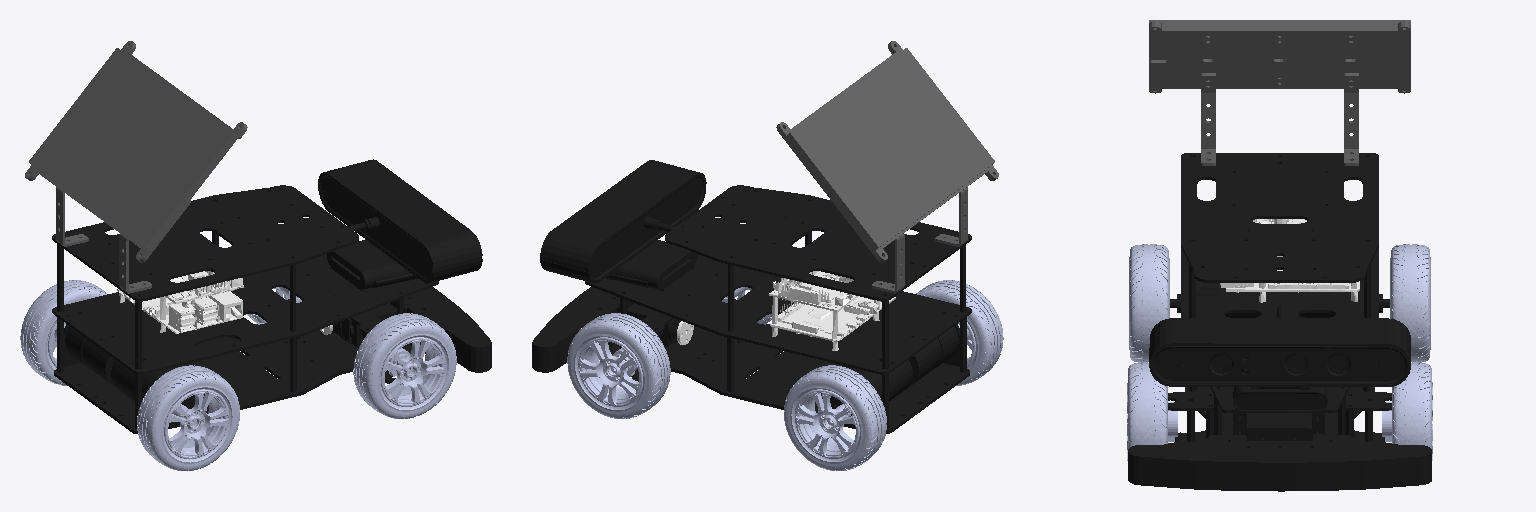
URDF robot description (yeahbot_c30_pi):
<?xml version="1.0" encoding="utf-8"?>
<!-- This URDF was automatically created by SolidWorks to URDF Exporter! Originally created by Stephen Brawner (brawner@gmail.com) 
     Commit Version: 1.6.0-4-g7f85cfe  Build Version: 1.6.7995.38578
     For more information, please see http://wiki.ros.org/sw_urdf_exporter -->
<robot
  name="yeahbot_c30_pi">
  <link
    name="base_link">
    <inertial>
      <origin
        xyz="-0.0404404260631577 -0.00115847242027992 0.0543903129847181"
        rpy="0 0 0" />
      <mass
        value="1.49145898706455" />
      <inertia
        ixx="0.00123615966455794"
        ixy="8.99394548740223E-07"
        ixz="8.97179701403893E-06"
        iyy="0.00110762135686547"
        iyz="-5.85581625855114E-09"
        izz="0.00213532276734711" />
    </inertial>
    <visual>
      <origin
        xyz="0 0 0"
        rpy="0 0 0" />
      <geometry>
        <mesh
          filename="package://car_urdf/meshes/yeahbot_c30_pi/base_link.STL" />
      </geometry>
      <material
        name="">
        <color
          rgba="0.149019607843137 0.149019607843137 0.149019607843137 1" />
      </material>
    </visual>
    <collision>
      <origin
        xyz="0 0 0"
        rpy="0 0 0" />
      <geometry>
        <mesh
          filename="package://car_urdf/meshes/yeahbot_c30_pi/base_link.STL" />
      </geometry>
    </collision>
  </link>
  <link
    name="wheel_lb_link">
    <inertial>
      <origin
        xyz="4.98698392077529E-05 -0.00781526332233076 -8.5873984925211E-06"
        rpy="0 0 0" />
      <mass
        value="0.00148423588037477" />
      <inertia
        ixx="5.63002074104791E-08"
        ixy="3.09740486116872E-10"
        ixz="-5.29895989912811E-11"
        iyy="3.03255981335438E-08"
        iyz="-5.33372466627085E-11"
        izz="5.60016030695891E-08" />
    </inertial>
    <visual>
      <origin
        xyz="0 0 0"
        rpy="0 0 0" />
      <geometry>
        <mesh
          filename="package://car_urdf/meshes/yeahbot_c30_pi/wheel_lb_link.STL" />
      </geometry>
      <material
        name="">
        <color
          rgba="0.792156862745098 0.819607843137255 0.933333333333333 1" />
      </material>
    </visual>
    <collision>
      <origin
        xyz="0 0 0"
        rpy="0 0 0" />
      <geometry>
        <mesh
          filename="package://car_urdf/meshes/yeahbot_c30_pi/wheel_lb_link.STL" />
      </geometry>
    </collision>
  </link>
  <joint
    name="wheel_lb_joint"
    type="continuous">
    <origin
      xyz="-0.107 0.08578 0.0365"
      rpy="0 0 0" />
    <parent
      link="base_link" />
    <child
      link="wheel_lb_link" />
    <axis
      xyz="0 1 0" />
  </joint>
  <link
    name="wheel_rb_link">
    <inertial>
      <origin
        xyz="-2.69794489989317E-05 0.00781526332233076 4.28118395678911E-05"
        rpy="0 0 0" />
      <mass
        value="0.00148423588037477" />
      <inertia
        ixx="5.6082543839678E-08"
        ixy="1.67569788667854E-10"
        ixz="-1.42918699413985E-10"
        iyy="3.03255981335438E-08"
        iyz="-2.65902983336345E-10"
        izz="5.62192666403903E-08" />
    </inertial>
    <visual>
      <origin
        xyz="0 0 0"
        rpy="0 0 0" />
      <geometry>
        <mesh
          filename="package://car_urdf/meshes/yeahbot_c30_pi/wheel_rb_link.STL" />
      </geometry>
      <material
        name="">
        <color
          rgba="0.792156862745098 0.819607843137255 0.933333333333333 1" />
      </material>
    </visual>
    <collision>
      <origin
        xyz="0 0 0"
        rpy="0 0 0" />
      <geometry>
        <mesh
          filename="package://car_urdf/meshes/yeahbot_c30_pi/wheel_rb_link.STL" />
      </geometry>
    </collision>
  </link>
  <joint
    name="wheel_rb_joint"
    type="continuous">
    <origin
      xyz="-0.107 -0.08822 0.0365"
      rpy="0 0 0" />
    <parent
      link="base_link" />
    <child
      link="wheel_rb_link" />
    <axis
      xyz="0 1 0" />
  </joint>
  <link
    name="imu_link">
    <inertial>
      <origin
        xyz="-1.24055807685236E-05 -0.00716717596618958 -0.0103264941374398"
        rpy="0 0 0" />
      <mass
        value="0.0370499748531372" />
      <inertia
        ixx="9.48782215617605E-06"
        ixy="6.72090333981195E-09"
        ixz="7.80615145201649E-10"
        iyy="4.36544577953113E-06"
        iyz="5.84243702695847E-09"
        izz="1.3342519242315E-05" />
    </inertial>
    <visual>
      <origin
        xyz="0 0 0"
        rpy="0 0 0" />
      <geometry>
        <mesh
          filename="package://car_urdf/meshes/yeahbot_c30_pi/imu_link.STL" />
      </geometry>
      <material
        name="">
        <color
          rgba="1 1 1 1" />
      </material>
    </visual>
    <collision>
      <origin
        xyz="0 0 0"
        rpy="0 0 0" />
      <geometry>
        <mesh
          filename="package://car_urdf/meshes/yeahbot_c30_pi/imu_link.STL" />
      </geometry>
    </collision>
  </link>
  <joint
    name="imu_joint"
    type="fixed">
    <origin
      xyz="-0.062131 0.0063832 0.10369"
      rpy="0 0 0" />
    <parent
      link="base_link" />
    <child
      link="imu_link" />
    <axis
      xyz="0 0 0" />
  </joint>
  <link
    name="lidar_link">
    <inertial>
      <origin
        xyz="0.0126557911433879 -0.00286228414215838 -0.0103246106687714"
        rpy="0 0 0" />
      <mass
        value="0.0393983563120957" />
      <inertia
        ixx="1.24256569601043E-05"
        ixy="4.74744021494825E-07"
        ixz="-2.11240555149726E-08"
        iyy="1.2933988524023E-05"
        iyz="2.63840210821249E-08"
        izz="2.3200003944116E-05" />
    </inertial>
    <visual>
      <origin
        xyz="0 0 0"
        rpy="0 0 0" />
      <geometry>
        <mesh
          filename="package://car_urdf/meshes/yeahbot_c30_pi/lidar_link.STL" />
      </geometry>
      <material
        name="">
        <color
          rgba="0.4 0.4 0.4 1" />
      </material>
    </visual>
    <collision>
      <origin
        xyz="0 0 0"
        rpy="0 0 0" />
      <geometry>
        <mesh
          filename="package://car_urdf/meshes/yeahbot_c30_pi/lidar_link.STL" />
      </geometry>
    </collision>
  </link>
  <joint
    name="lidar_joint"
    type="fixed">
    <origin
      xyz="0.015 -0.0012197 0.1506"
      rpy="0 0 -3.1416" />
    <parent
      link="base_link" />
    <child
      link="lidar_link" />
    <axis
      xyz="0 0 0" />
  </joint>
  <link
    name="screen_link">
    <inertial>
      <origin
        xyz="0.00198221274296399 0.000714211030623866 -0.00437276420725546"
        rpy="0 0 0" />
      <mass
        value="0.140411911048415" />
      <inertia
        ixx="0.000374509459141403"
        ixy="-1.67585708743778E-06"
        ixz="-6.34582915782928E-05"
        iyy="0.000129051933702688"
        iyz="-1.67585708743772E-06"
        izz="0.00037307279416161" />
    </inertial>
    <visual>
      <origin
        xyz="0 0 0"
        rpy="0 0 0" />
      <geometry>
        <mesh
          filename="package://car_urdf/meshes/yeahbot_c30_pi/screen_link.STL" />
      </geometry>
      <material
        name="">
        <color
          rgba="0.411764705882353 0.411764705882353 0.411764705882353 1" />
      </material>
    </visual>
    <collision>
      <origin
        xyz="0 0 0"
        rpy="0 0 0" />
      <geometry>
        <mesh
          filename="package://car_urdf/meshes/yeahbot_c30_pi/screen_link.STL" />
      </geometry>
    </collision>
  </link>
  <joint
    name="screen_joint"
    type="fixed">
    <origin
      xyz="-0.10642 -0.0012197 0.21422"
      rpy="0 0 0" />
    <parent
      link="base_link" />
    <child
      link="screen_link" />
    <axis
      xyz="0 0 0" />
  </joint>
  <link
    name="arm_0_link">
    <inertial>
      <origin
        xyz="-4.72762953207528E-05 -1.29063426612674E-15 4.9960036108132E-16"
        rpy="0 0 0" />
      <mass
        value="0.000750525630286734" />
      <inertia
        ixx="3.65848591927909E-08"
        ixy="-2.46629733732111E-24"
        ixz="1.12693333019459E-26"
        iyy="1.90139496058443E-08"
        iyz="8.39168177792297E-26"
        izz="1.90139496058444E-08" />
    </inertial>
    <visual>
      <origin
        xyz="0 0 0"
        rpy="0 0 0" />
      <geometry>
        <mesh
          filename="package://car_urdf/meshes/yeahbot_c30_pi/arm_0_link.STL" />
      </geometry>
      <material
        name="">
        <color
          rgba="1 1 1 1" />
      </material>
    </visual>
    <collision>
      <origin
        xyz="0 0 0"
        rpy="0 0 0" />
      <geometry>
        <mesh
          filename="package://car_urdf/meshes/yeahbot_c30_pi/arm_0_link.STL" />
      </geometry>
    </collision>
  </link>
  <joint
    name="arm_0_joint"
    type="revolute">
    <origin
      xyz="0.0575 0.0087803 0.037"
      rpy="0 0 0" />
    <parent
      link="base_link" />
    <child
      link="arm_0_link" />
    <axis
      xyz="1 0 0" />
    <limit
      lower="0.785"
      upper="-0.785"
      effort="100"
      velocity="1" />
  </joint>
  <link
    name="zz_link">
    <inertial>
      <origin
        xyz="-2.41743222662016E-10 -0.00211624277368393 1.15732207150998E-09"
        rpy="0 0 0" />
      <mass
        value="0.00278145213709059" />
      <inertia
        ixx="1.3527729158343E-07"
        ixy="-1.1588980137778E-15"
        ixz="-2.73279440942941E-15"
        iyy="1.55232159794631E-07"
        iyz="2.93743900731384E-14"
        izz="1.20052588731153E-07" />
    </inertial>
    <visual>
      <origin
        xyz="0 0 0"
        rpy="0 0 0" />
      <geometry>
        <mesh
          filename="package://car_urdf/meshes/yeahbot_c30_pi/zz_link.STL" />
      </geometry>
      <material
        name="">
        <color
          rgba="0.792156862745098 0.819607843137255 0.933333333333333 1" />
      </material>
    </visual>
    <collision>
      <origin
        xyz="0 0 0"
        rpy="0 0 0" />
      <geometry>
        <mesh
          filename="package://car_urdf/meshes/yeahbot_c30_pi/zz_link.STL" />
      </geometry>
    </collision>
  </link>
  <joint
    name="zz_joint"
    type="revolute">
    <origin
      xyz="0.069 0.07708 0.0365"
      rpy="0 0 0" />
    <parent
      link="base_link" />
    <child
      link="zz_link" />
    <axis
      xyz="0 0 -1" />
    <limit
      lower="0.785"
      upper="-0.785"
      effort="100"
      velocity="1" />
  </joint>
  <link
    name="wheel_lf_link">
    <inertial>
      <origin
        xyz="-0.0985534647250266 -0.0799192252652963 0.0103459341768621"
        rpy="0 0 0" />
      <mass
        value="53.2198809099314" />
      <inertia
        ixx="1.03043256632766"
        ixy="-0.032284783231228"
        ixz="0.0542186405362998"
        iyy="1.13727478862637"
        iyz="0.00176065970160517"
        izz="1.51665849388382" />
    </inertial>
    <visual>
      <origin
        xyz="0 0 0"
        rpy="0 0 0" />
      <geometry>
        <mesh
          filename="package://car_urdf/meshes/yeahbot_c30_pi/wheel_lf_link.STL" />
      </geometry>
      <material
        name="">
        <color
          rgba="0.792156862745098 0.819607843137255 0.933333333333333 1" />
      </material>
    </visual>
    <collision>
      <origin
        xyz="0 0 0"
        rpy="0 0 0" />
      <geometry>
        <mesh
          filename="package://car_urdf/meshes/yeahbot_c30_pi/wheel_lf_link.STL" />
      </geometry>
    </collision>
  </link>
  <joint
    name="wheel_lf_joint"
    type="continuous">
    <origin
      xyz="0 0.0097 0"
      rpy="0 0 0" />
    <parent
      link="zz_link" />
    <child
      link="wheel_lf_link" />
    <axis
      xyz="0 -1 0" />
  </joint>
  <link
    name="yz_link">
    <inertial>
      <origin
        xyz="2.41740988338179E-10 0.00211624277368387 1.1573229596884E-09"
        rpy="0 0 0" />
      <mass
        value="0.00278145213709059" />
      <inertia
        ixx="1.3527729158343E-07"
        ixy="-1.15889831198989E-15"
        ixz="2.73279446012203E-15"
        iyy="1.55232159794631E-07"
        iyz="-2.93743900524317E-14"
        izz="1.20052588731153E-07" />
    </inertial>
    <visual>
      <origin
        xyz="0 0 0"
        rpy="0 0 0" />
      <geometry>
        <mesh
          filename="package://car_urdf/meshes/yeahbot_c30_pi/yz_link.STL" />
      </geometry>
      <material
        name="">
        <color
          rgba="0.792156862745098 0.819607843137255 0.933333333333333 1" />
      </material>
    </visual>
    <collision>
      <origin
        xyz="0 0 0"
        rpy="0 0 0" />
      <geometry>
        <mesh
          filename="package://car_urdf/meshes/yeahbot_c30_pi/yz_link.STL" />
      </geometry>
    </collision>
  </link>
  <joint
    name="yz_joint"
    type="revolute">
    <origin
      xyz="0.069 -0.07952 0.0365"
      rpy="0 0 0" />
    <parent
      link="base_link" />
    <child
      link="yz_link" />
    <axis
      xyz="0 0 -1" />
    <limit
      lower="0.785"
      upper="-0.785"
      effort="100"
      velocity="1" />
  </joint>
  <link
    name="wheel_rf_link">
    <inertial>
      <origin
        xyz="-0.0985534647250205 0.0960807747347012 0.010345934176859"
        rpy="0 0 0" />
      <mass
        value="53.2198809099314" />
      <inertia
        ixx="1.03043256632766"
        ixy="-0.0322847832312279"
        ixz="0.0542186405362998"
        iyy="1.13727478862637"
        iyz="0.00176065970160517"
        izz="1.51665849388382" />
    </inertial>
    <visual>
      <origin
        xyz="0 0 0"
        rpy="0 0 0" />
      <geometry>
        <mesh
          filename="package://car_urdf/meshes/yeahbot_c30_pi/wheel_rf_link.STL" />
      </geometry>
      <material
        name="">
        <color
          rgba="0.792156862745098 0.819607843137255 0.933333333333333 1" />
      </material>
    </visual>
    <collision>
      <origin
        xyz="0 0 0"
        rpy="0 0 0" />
      <geometry>
        <mesh
          filename="package://car_urdf/meshes/yeahbot_c30_pi/wheel_rf_link.STL" />
      </geometry>
    </collision>
  </link>
  <joint
    name="wheel_rf_joint"
    type="continuous">
    <origin
      xyz="0 -0.0097 0"
      rpy="0 0 0" />
    <parent
      link="yz_link" />
    <child
      link="wheel_rf_link" />
    <axis
      xyz="0 -1 0" />
  </joint>
</robot>

--- Facts derived from the render (not from the file) ---
3 views of the same robot in one strip: view 1: azimuth 30°, elevation 25°; view 2: azimuth 150°, elevation 25°; view 3: azimuth 270°, elevation 25° (orthographic).
Model yeahbot_c30_pi with 11 links and 10 joints (3 revolute, 4 continuous, 3 fixed), rooted at base_link, posed all joints at 0.
Links seen in each view (by area): view 1: base_link, screen_link, wheel_rb_link, wheel_rf_link, imu_link, wheel_lb_link; view 2: base_link, screen_link, wheel_lb_link, wheel_lf_link, imu_link, wheel_rb_link; view 3: base_link, screen_link, wheel_rb_link, wheel_lb_link, wheel_rf_link, wheel_lf_link, imu_link.
Link boxes in pixels (left/top/right/bottom): base_link: left=52, top=159, right=491, bottom=433; screen_link: left=25, top=41, right=247, bottom=293; wheel_rb_link: left=137, top=365, right=239, bottom=470; wheel_rf_link: left=353, top=313, right=456, bottom=418; imu_link: left=117, top=271, right=243, bottom=333; wheel_lb_link: left=20, top=280, right=106, bottom=385; base_link: left=532, top=160, right=971, bottom=433; screen_link: left=776, top=41, right=998, bottom=293; wheel_lb_link: left=784, top=365, right=886, bottom=470; wheel_lf_link: left=567, top=313, right=670, bottom=418; imu_link: left=769, top=271, right=895, bottom=350; wheel_rb_link: left=916, top=280, right=1003, bottom=385; base_link: left=1128, top=153, right=1431, bottom=491; screen_link: left=1149, top=20, right=1410, bottom=165; wheel_rb_link: left=1129, top=244, right=1169, bottom=362; wheel_lb_link: left=1390, top=244, right=1430, bottom=362; wheel_rf_link: left=1127, top=362, right=1167, bottom=460; wheel_lf_link: left=1392, top=362, right=1432, bottom=460; imu_link: left=1220, top=219, right=1359, bottom=302.
Size in the robot's own frame: 0.2919 by 0.1924 by 0.2557 metres.
10 mesh visuals loaded from 11 distinct referenced files (10 binary STL); not drawn: 1 (reference not matched to a file when rendering).
